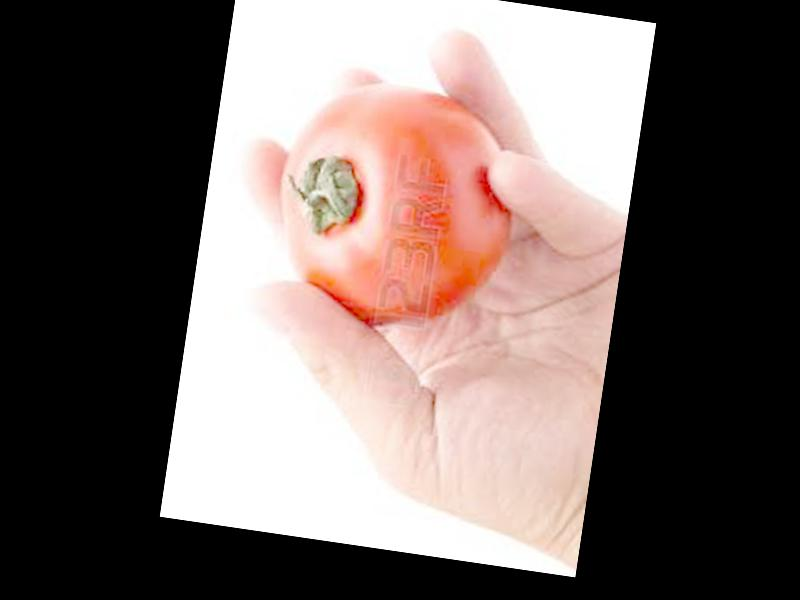Tomato: (263, 70, 527, 340)
